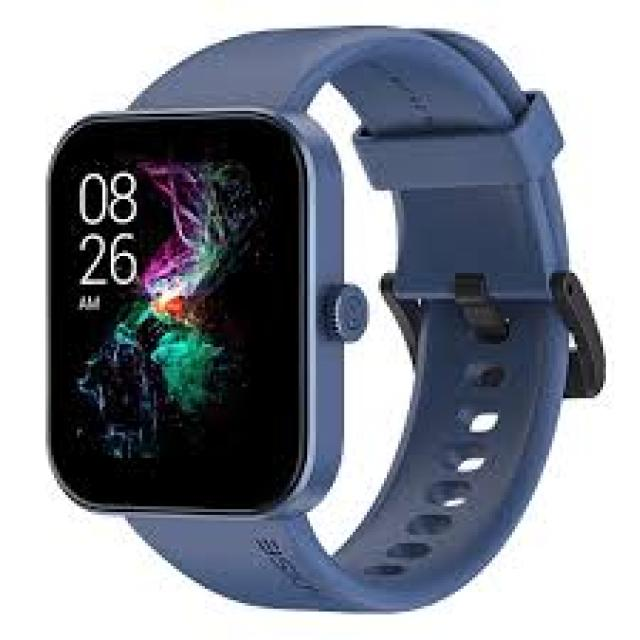objects: (47, 26, 600, 616)
